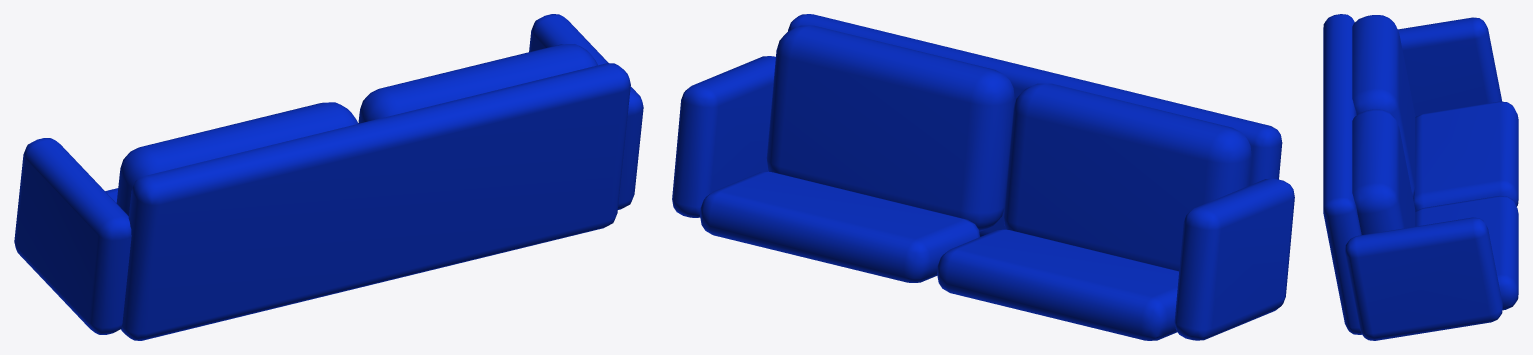
The model's file is EM_Seat.obj.
The picture shows the model from 3 angles, left to right: view 1: azimuth 30°, elevation 25°; view 2: azimuth 150°, elevation 25°; view 3: azimuth 270°, elevation 25°; orthographic projection. The views are drawn at different scales.
Visible parts, largest first — view 1: EM_Seat; view 2: EM_Seat; view 3: EM_Seat.
Boxes of the visible parts, <box> form: EM_Seat: <box>14,14,643,340</box>; EM_Seat: <box>672,14,1294,340</box>; EM_Seat: <box>1323,14,1518,340</box>.
Bounding box in the file's own units: 4.54 × 1.41 × 1.75.
